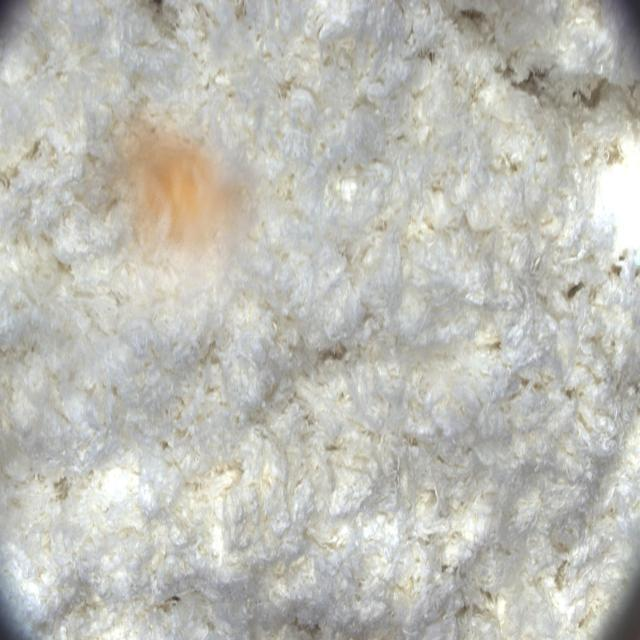dust: (83, 102, 268, 336)
